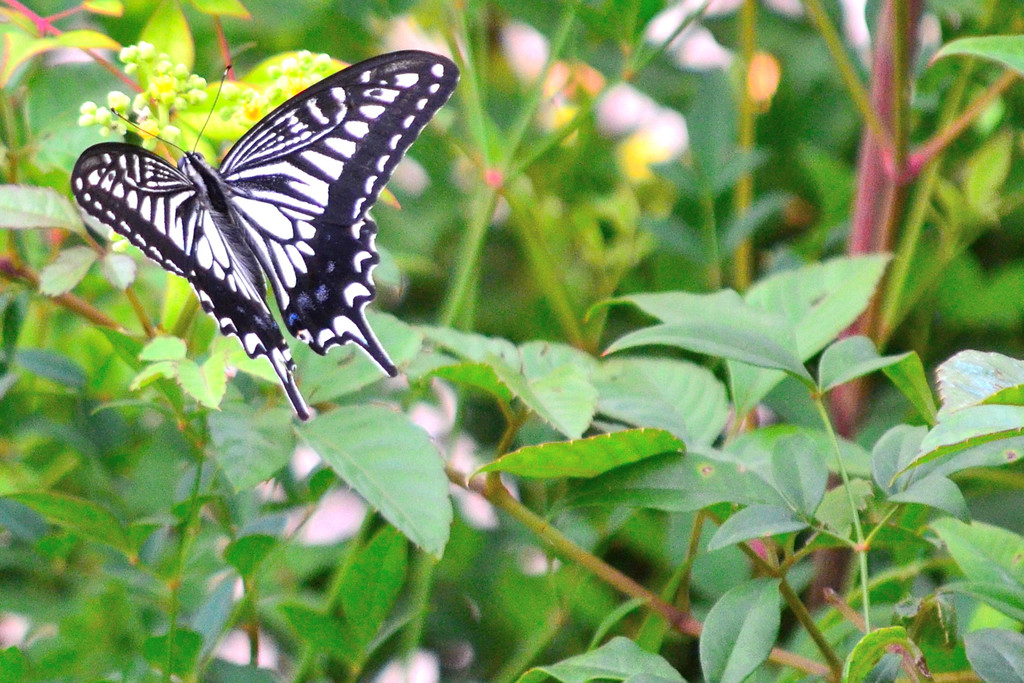Butterfly: (67, 38, 465, 423)
